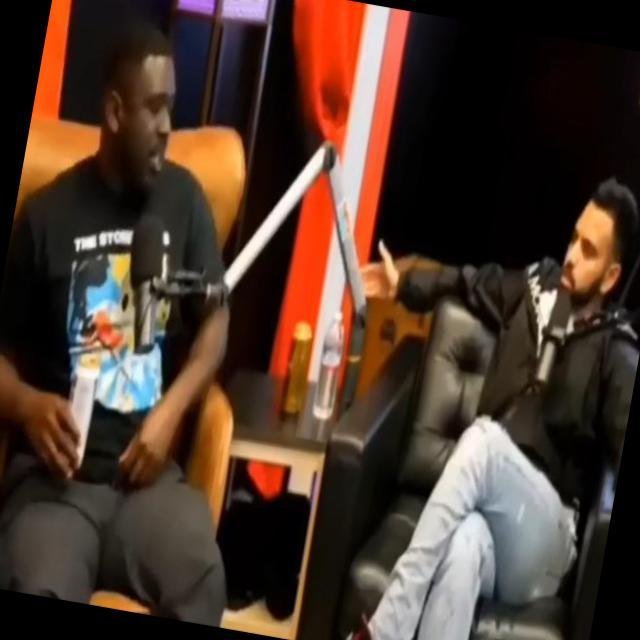person: (0, 22, 315, 626), (370, 165, 640, 640)
